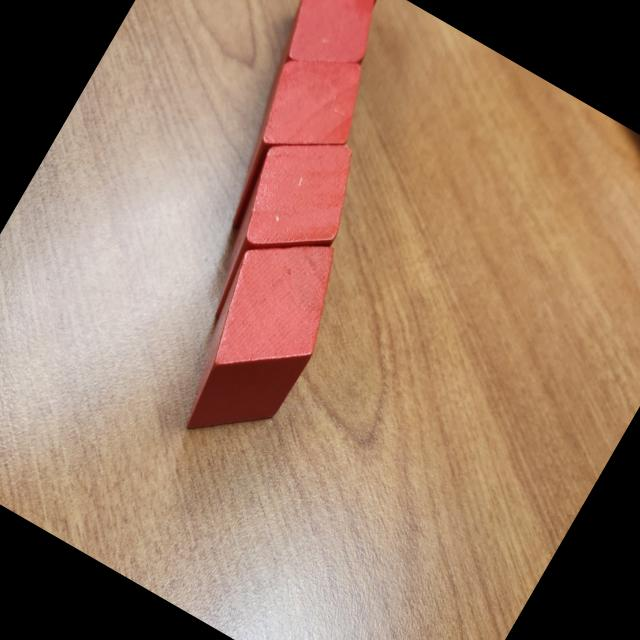red: (149, 209, 364, 469), (181, 112, 382, 354), (198, 30, 383, 257), (257, 0, 395, 118), (289, 0, 384, 37)
